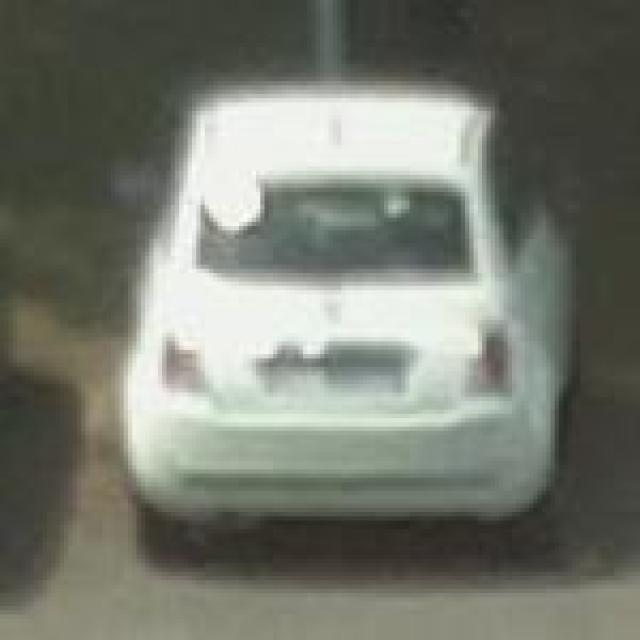cars-sUYr: (83, 55, 608, 573)
